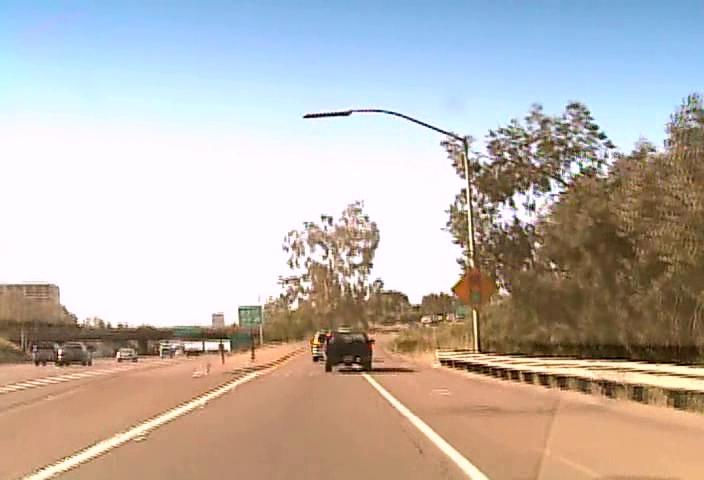signalAhead: (450, 267, 498, 310)
